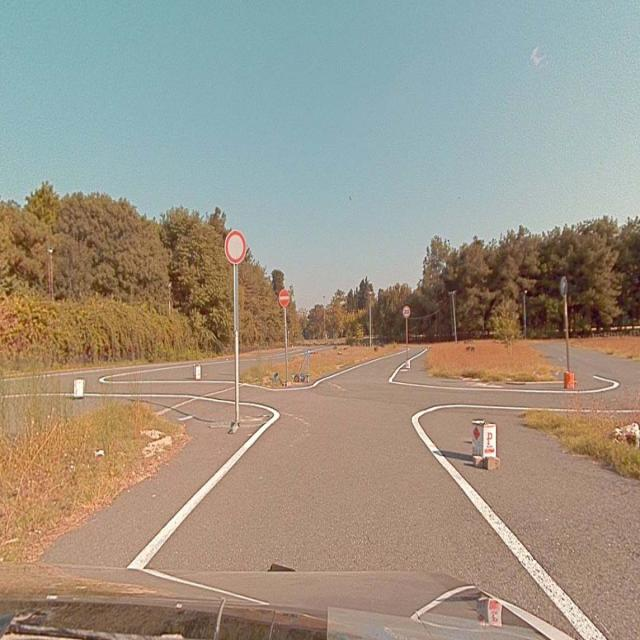20: (403, 306, 410, 317)
girisyok: (279, 289, 289, 307)
